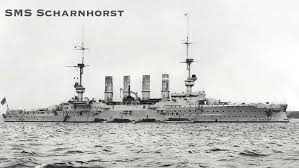tau_muctieu: (6, 54, 291, 127)
